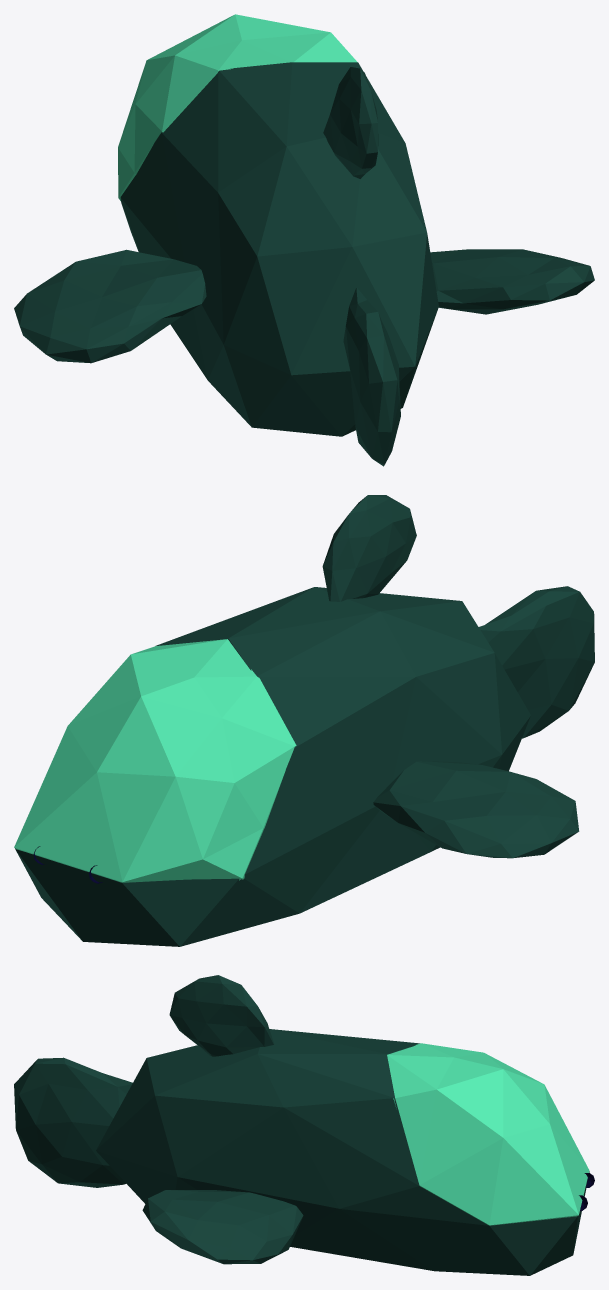
Rendered from macropinnamicrostoma.glb.
The picture shows the model from 3 angles, top to bottom: view 1: azimuth 30°, elevation 25°; view 2: azimuth 150°, elevation 25°; view 3: azimuth 270°, elevation 25°; orthographic projection. The views are drawn at different scales.
Visible parts, largest first — view 1: Icosphere.003; view 2: Icosphere.003; view 3: Icosphere.003.
Boxes of the visible parts, x1,y1,x2,y2 form: Icosphere.003: (14, 14, 594, 466); Icosphere.003: (14, 495, 594, 946); Icosphere.003: (14, 975, 594, 1275).
Size of the model in its own units: 2.12 by 1.39 by 2.75.
